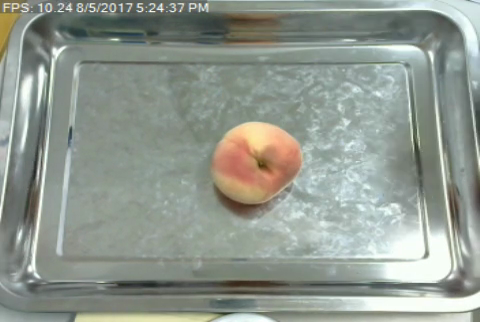Peach: (210, 121, 302, 205)
